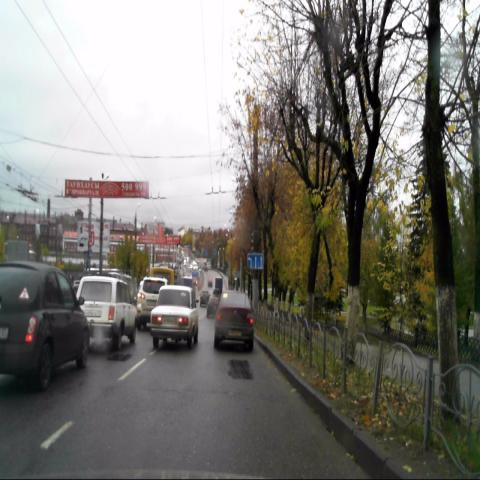5_15_1: (247, 253, 263, 269)
